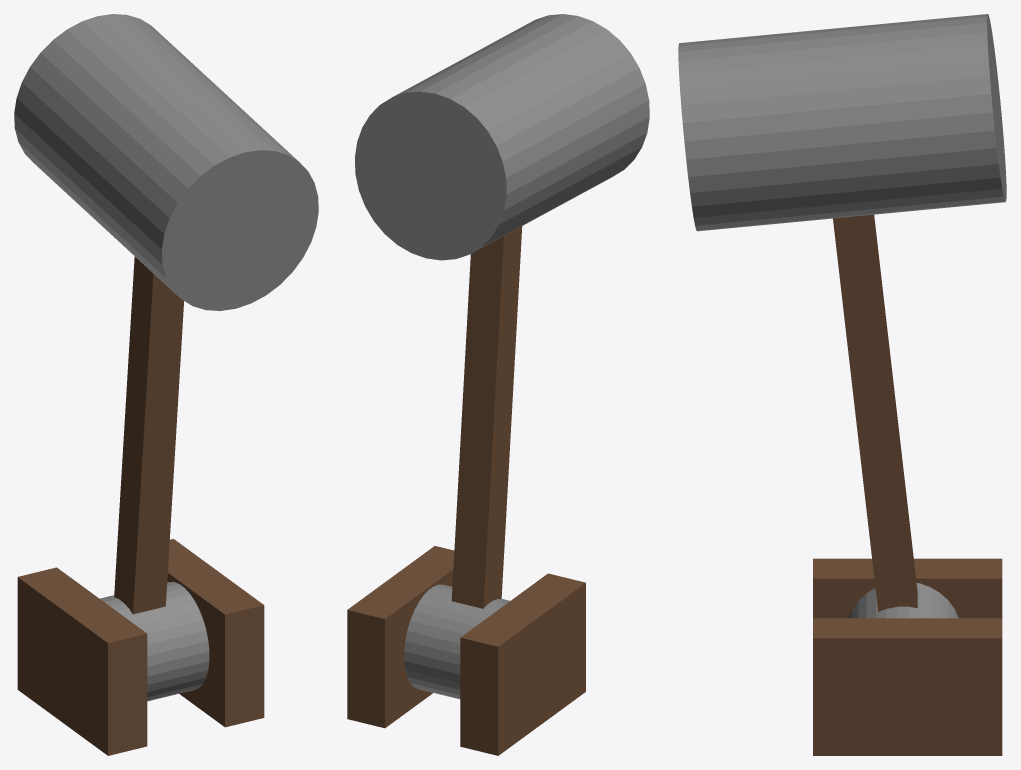
The model's file is bonk.fbx.
The picture shows the model from 3 angles, left to right: view 1: azimuth 30°, elevation 25°; view 2: azimuth 150°, elevation 25°; view 3: azimuth 270°, elevation 25°; orthographic projection. The views are drawn at different scales.
Visible parts, largest first — view 1: Cylinder, Cube.001, Cube, Cylinder.001; view 2: Cylinder, Cube.001, Cube, Cylinder.001; view 3: Cylinder, Cube.001, Cube, Cylinder.001.
Boxes of the visible parts, x1,y1,x2,y2 form: Cylinder: (14, 14, 318, 310); Cube.001: (17, 539, 264, 755); Cube: (114, 256, 183, 614); Cylinder.001: (100, 581, 209, 701); Cylinder: (355, 14, 649, 260); Cube.001: (347, 546, 585, 755); Cube: (451, 226, 522, 608); Cylinder.001: (404, 584, 509, 699); Cylinder: (678, 14, 1006, 231); Cube.001: (813, 558, 1002, 755); Cube: (833, 214, 917, 611); Cylinder.001: (848, 583, 958, 618).
Size of the model in its own units: 2.07 by 8.05 by 3.47.
